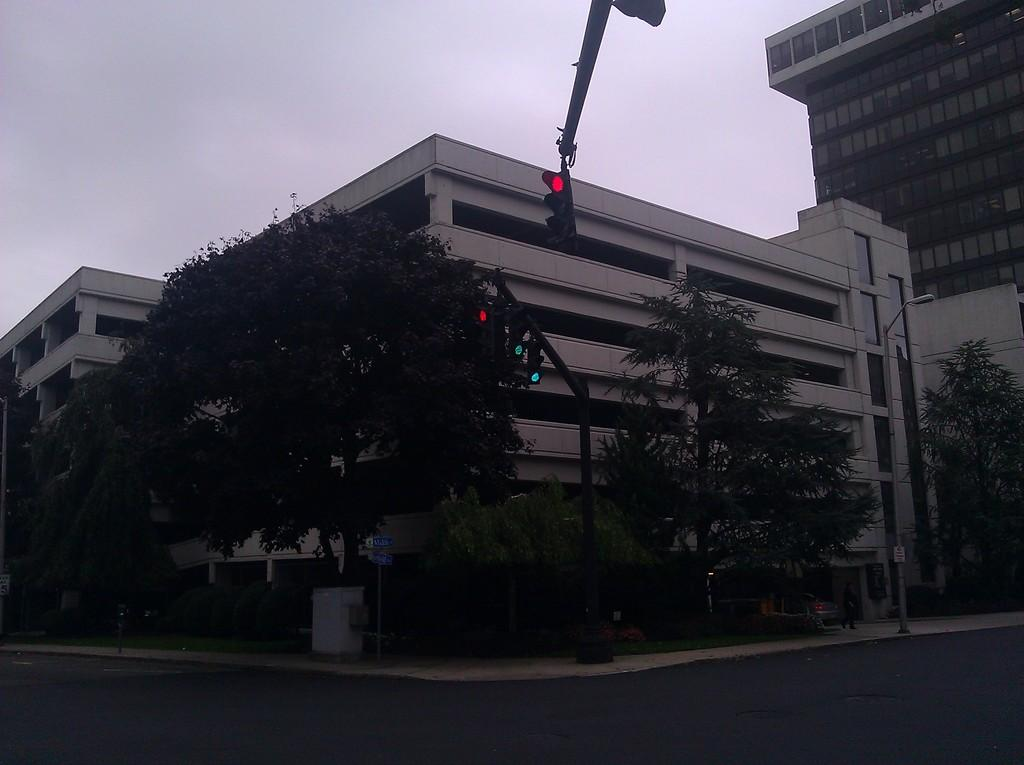green_light: (509, 308, 529, 361), (529, 342, 546, 388)
red_light: (541, 170, 579, 242), (476, 304, 497, 358)
